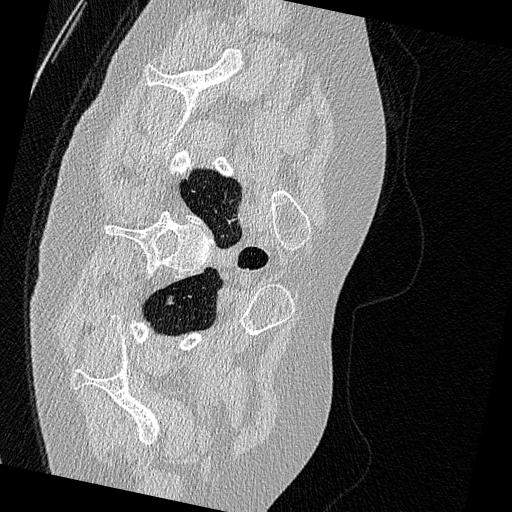nodule: (164, 294, 178, 308)
